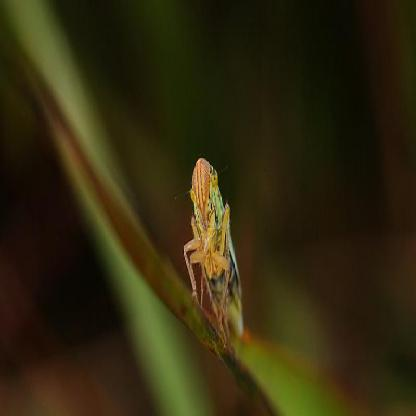Green-Leafhopper: (183, 157, 247, 357)
